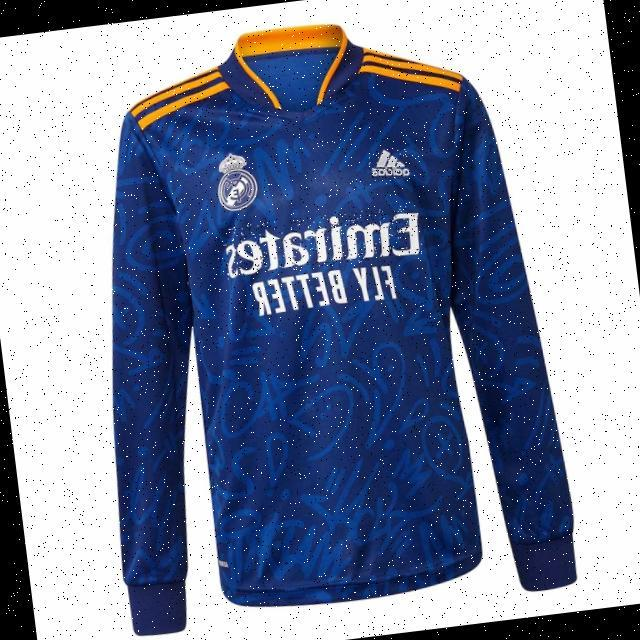Adidas: (366, 145, 410, 183)
Emirates: (218, 204, 424, 280)
